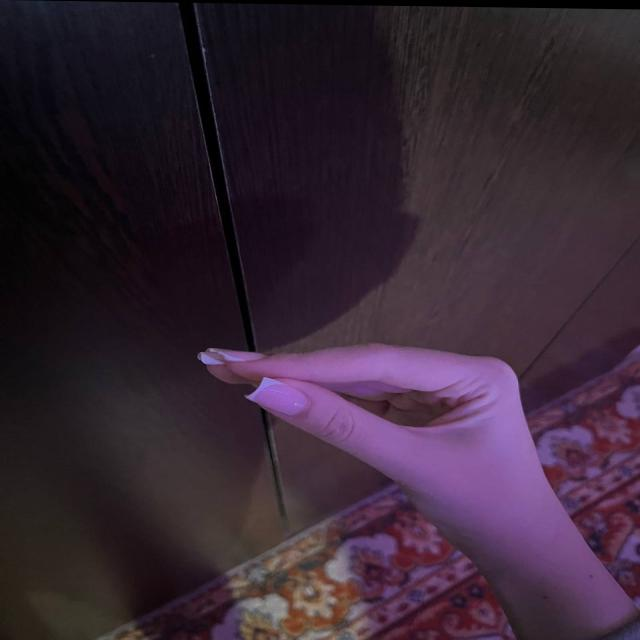zh: (178, 312, 592, 552)
